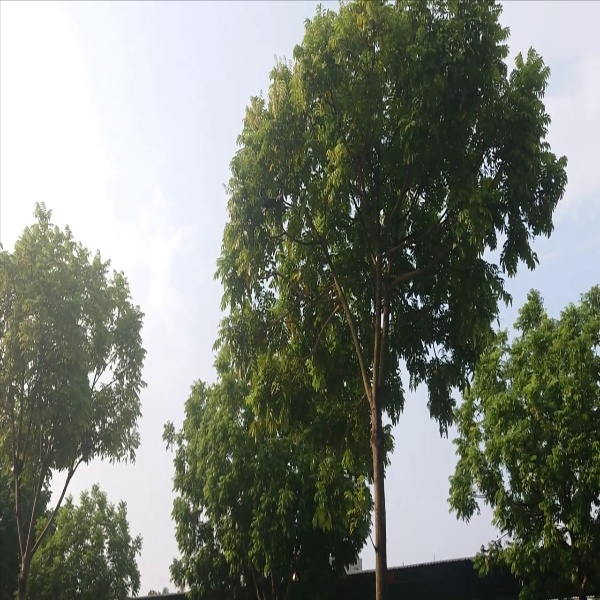drone: (250, 184, 292, 215)
